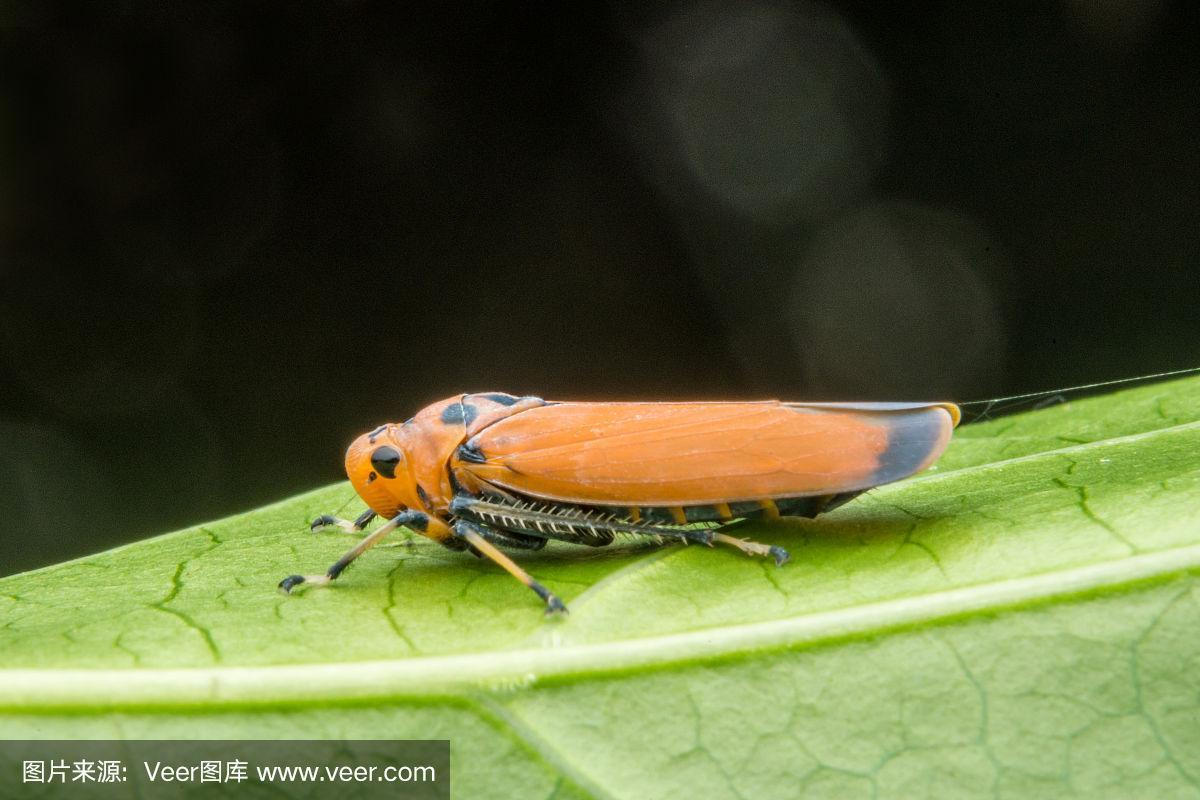Cicadellidae: (307, 392, 961, 591)
